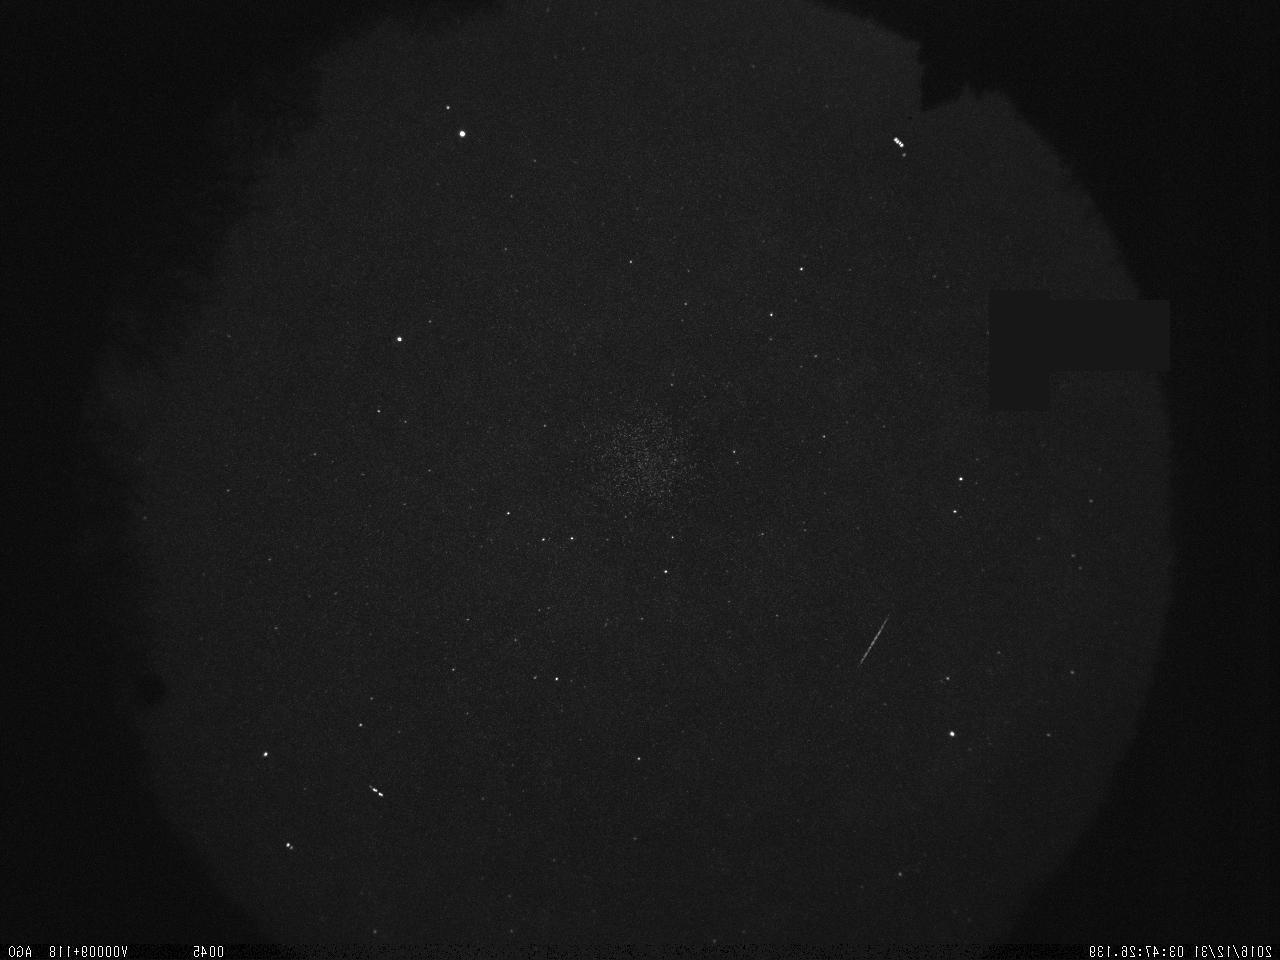meteor: (843, 612, 906, 678)
